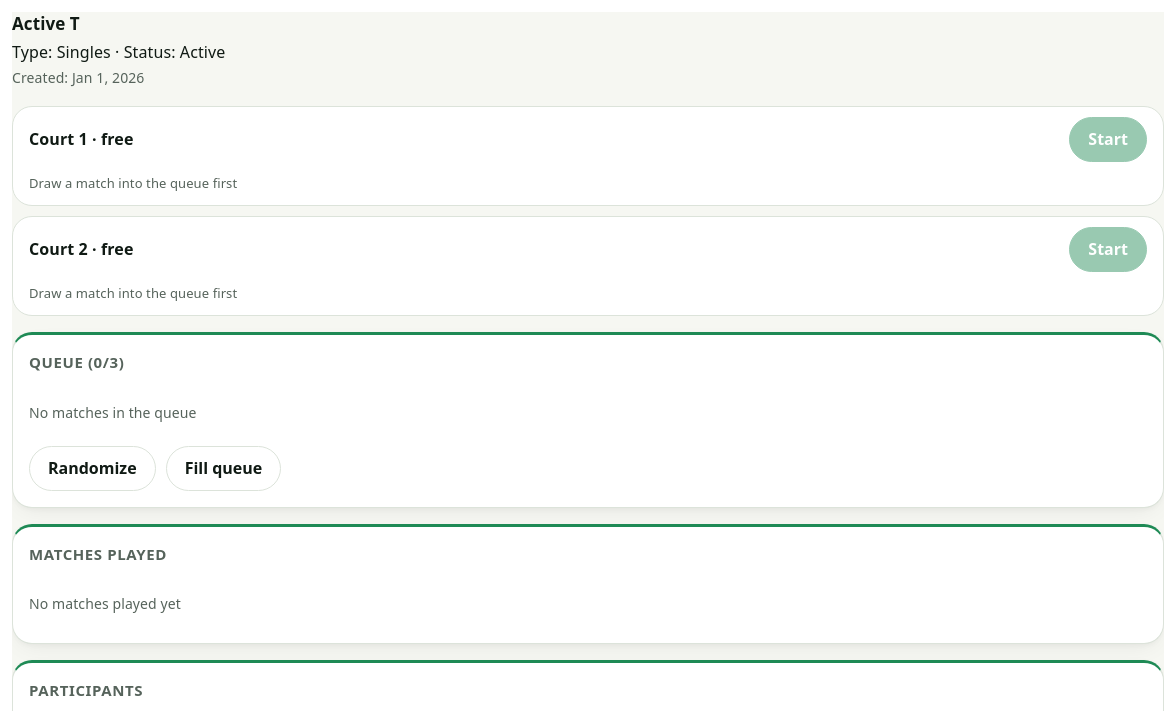
Test: TournamentDetail: Queue (Randomize / Fill queue / Remove) › Fill queue fills the queue to courts + 1, then both draw buttons are disabled as full
Click the button "Fill queue" at (223, 468), box [166,446,281,491]
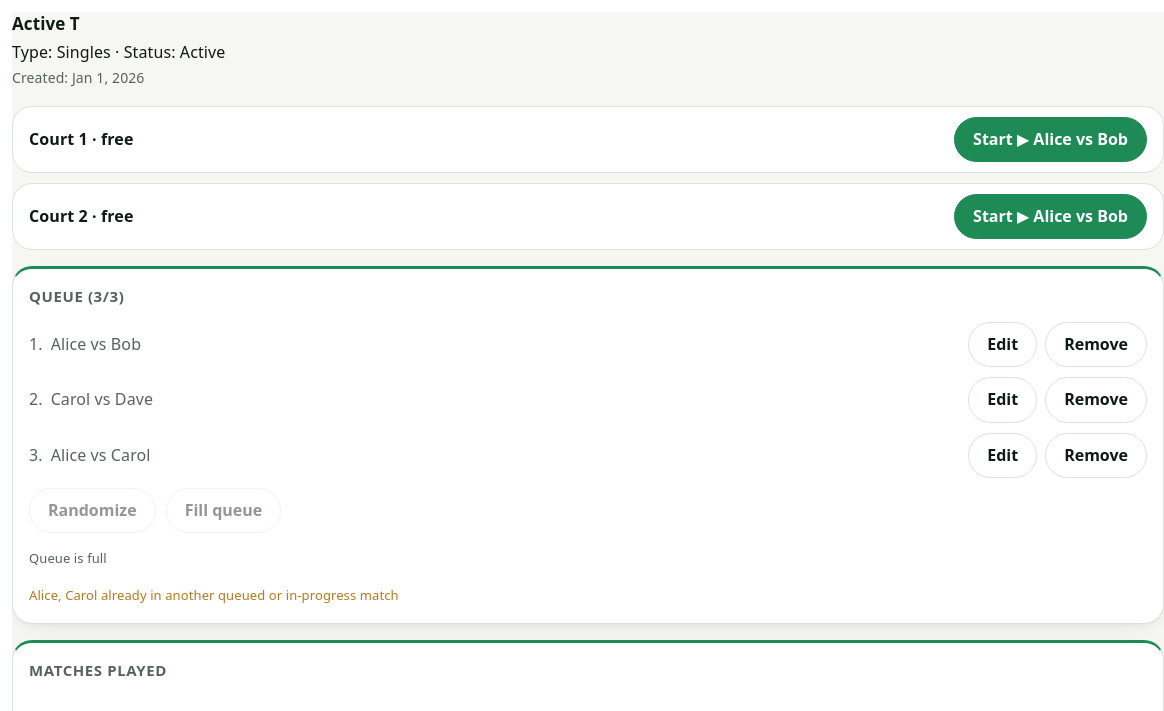
expect the heading "Queue (3/3)" is shown: met, box [29,286,124,306]
expect the button "Randomize" is disabled: met, box [29,488,156,533]
expect the button "Fill queue" is disabled: met, box [166,488,281,533]
